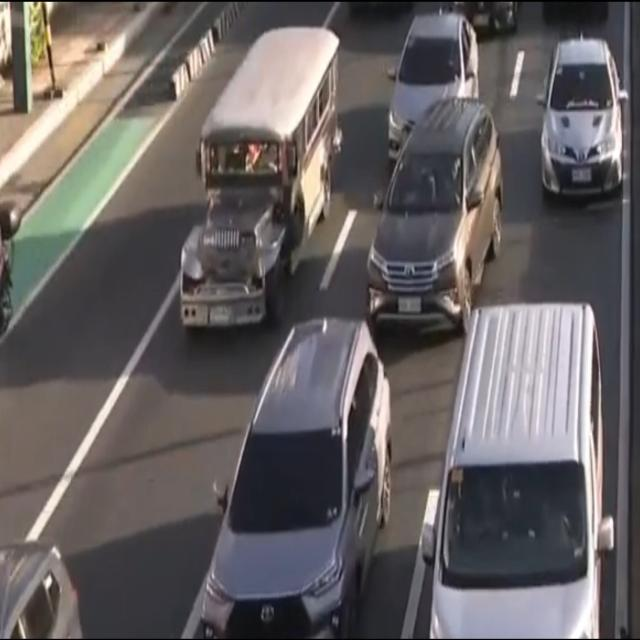SUV: (162, 287, 407, 640), (364, 103, 502, 330)
Sedan: (529, 8, 632, 214), (381, 12, 494, 154)
Van: (416, 252, 615, 640)
